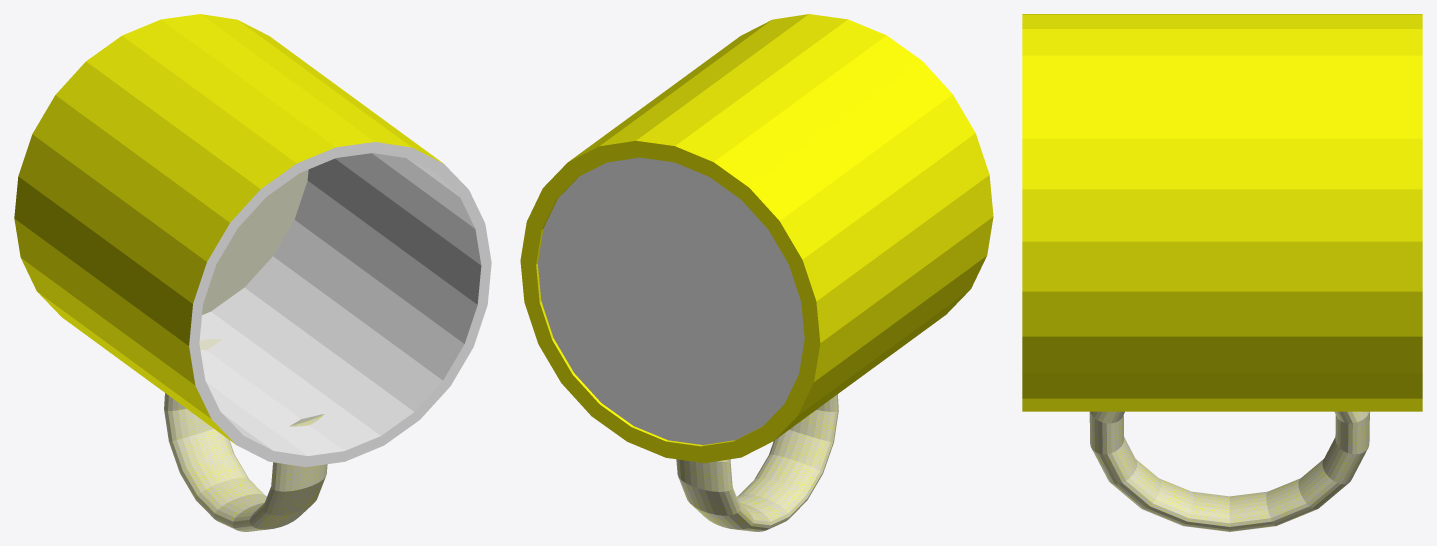
The picture shows the model from 3 angles, left to right: view 1: azimuth 30°, elevation 25°; view 2: azimuth 150°, elevation 25°; view 3: azimuth 270°, elevation 25°; orthographic projection. The views are drawn at different scales.
Parts seen in each view (by area): view 1: mug; view 2: mug; view 3: mug.
Boxes of the visible parts, left/top/right/bottom form: mug: left=14, top=14, right=491, bottom=531; mug: left=520, top=14, right=993, bottom=531; mug: left=1022, top=14, right=1422, bottom=531.
Bounding box in the file's own units: 195 × 269 × 195.
